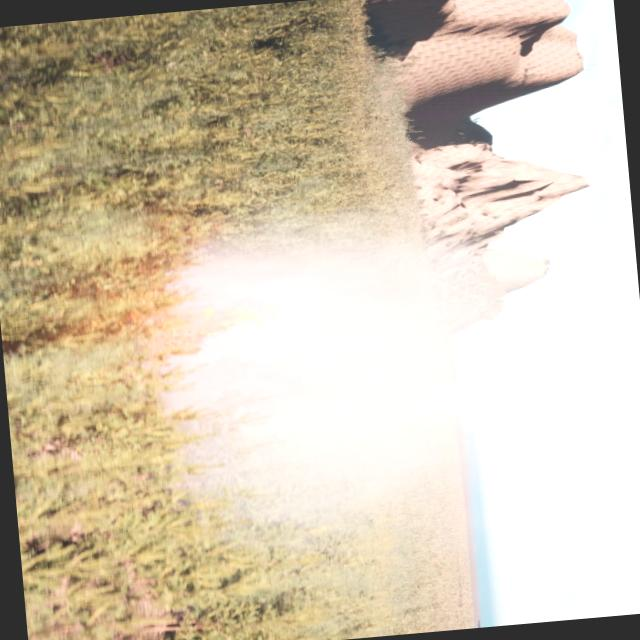fire: (118, 290, 307, 372)
smoke: (156, 195, 610, 562)
